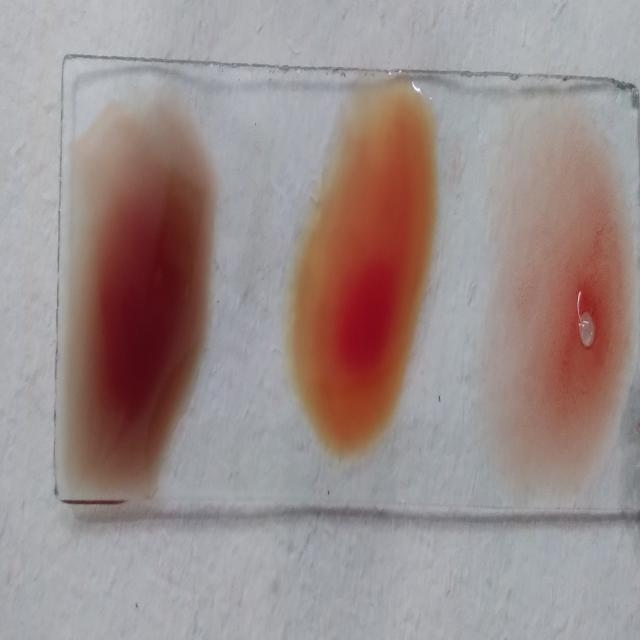D: (516, 136, 624, 454)
